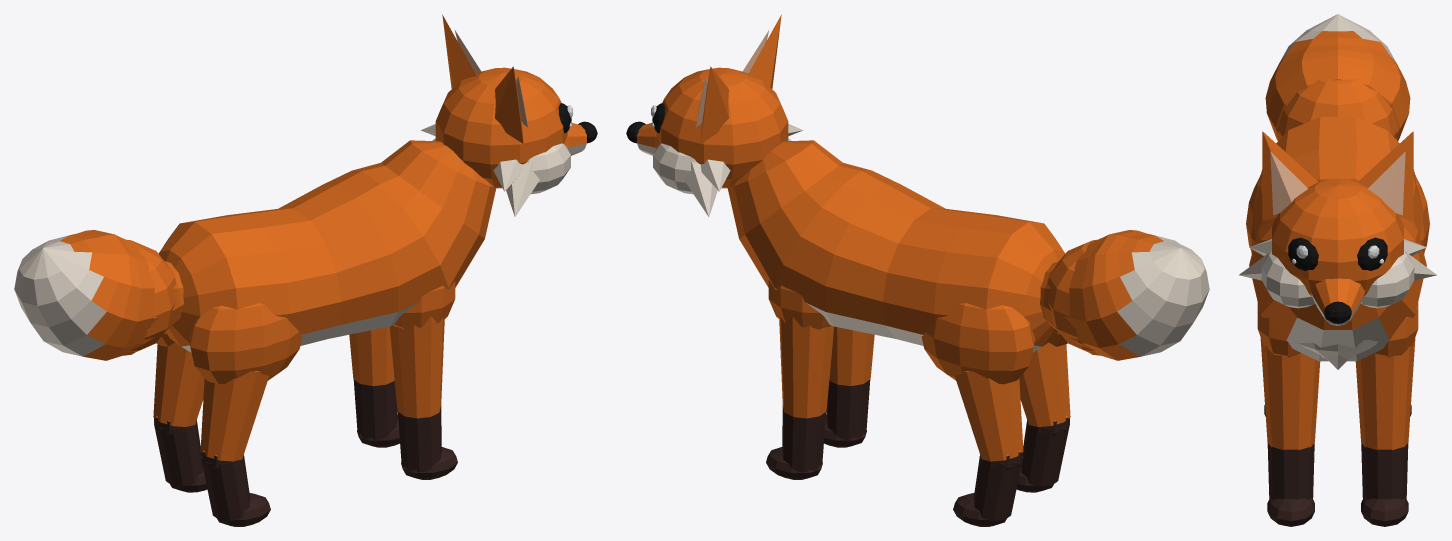
The model's file is fox.glb.
3 renders of one model, left to right at view 1: azimuth 30°, elevation 25°; view 2: azimuth 150°, elevation 25°; view 3: azimuth 270°, elevation 25°, orthographic. The views are drawn at different scales.
Parts seen in each view (by area): view 1: body, tail_2, head, leg_br, leg_fr, leg_bl, leg_fl; view 2: body, tail_2, head, leg_bl, leg_fl, leg_br, leg_fr; view 3: head, body, tail_2, leg_fl, leg_fr, leg_bl, leg_br.
Boxes of the visible parts, x1,y1,x2,y2 form: body: [158, 140, 496, 352]; tail_2: [14, 230, 176, 360]; head: [420, 14, 597, 216]; leg_br: [188, 303, 302, 526]; leg_fr: [389, 281, 457, 479]; leg_bl: [153, 331, 207, 492]; leg_fl: [349, 326, 399, 447]; body: [727, 140, 1065, 352]; tail_2: [1047, 230, 1209, 360]; head: [626, 14, 803, 216]; leg_bl: [921, 302, 1035, 526]; leg_fl: [766, 280, 834, 479]; leg_br: [1016, 331, 1070, 492]; leg_fr: [824, 326, 874, 447]; head: [1239, 131, 1436, 325]; body: [1249, 117, 1426, 369]; tail_2: [1265, 14, 1410, 140]; leg_fl: [1355, 302, 1418, 526]; leg_fr: [1257, 303, 1320, 526]; leg_bl: [1410, 174, 1429, 416]; leg_br: [1246, 175, 1265, 416].
Size of the model in its own units: 2.25 by 1.51 by 0.638.
